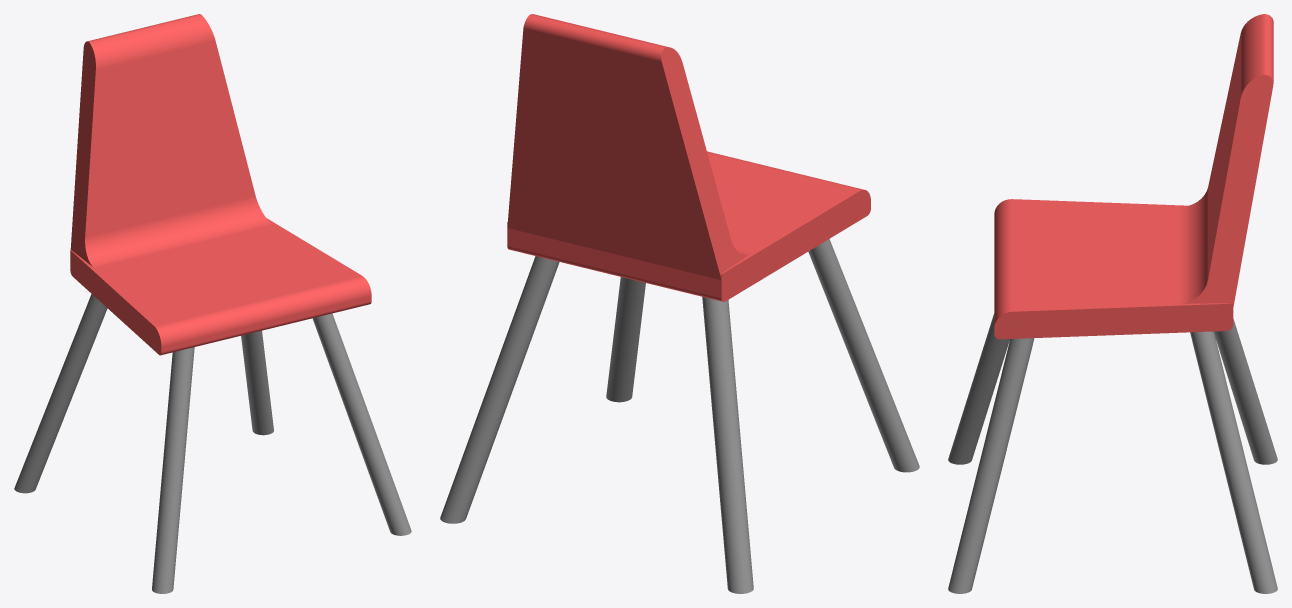
3 renders of one model, left to right at view 1: azimuth 30°, elevation 25°; view 2: azimuth 150°, elevation 25°; view 3: azimuth 270°, elevation 25°, orthographic. The views are drawn at different scales.
Parts seen in each view (by area): view 1: body; view 2: body; view 3: body.
Boxes of the visible parts, x1=… form: body: x1=14, y1=14, x2=411, y2=593; body: x1=440, y1=14, x2=919, y2=593; body: x1=948, y1=14, x2=1277, y2=593.
Bounding box in the file's own units: 0.55 × 0.8834 × 0.55.
